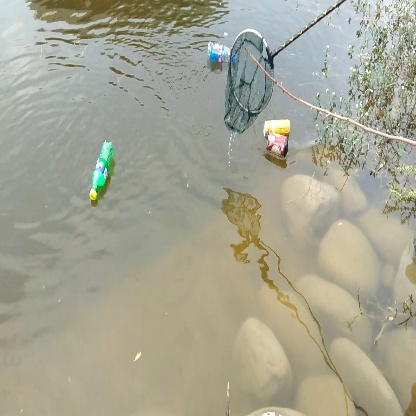bottle: (89, 140, 114, 202), (204, 41, 241, 65), (263, 133, 291, 159)
